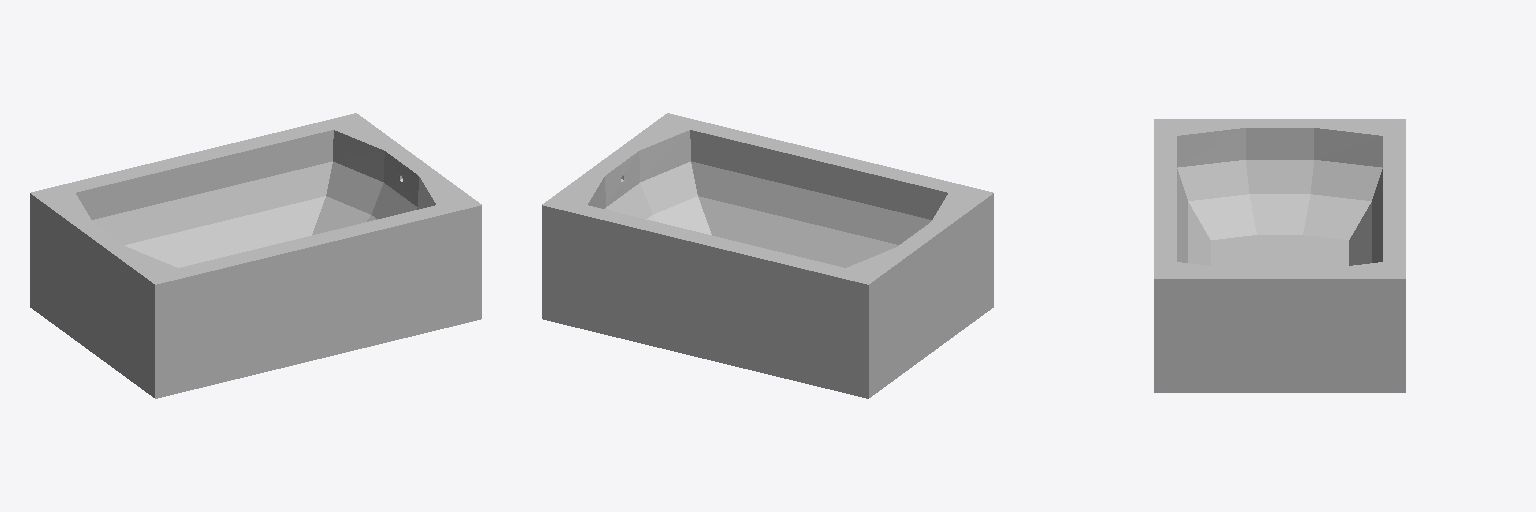
File: pcity_nodes_bathtub.obj
3 views of the same model, side by side, from view 1: azimuth 30°, elevation 25°; view 2: azimuth 150°, elevation 25°; view 3: azimuth 270°, elevation 25° (orthographic).
Visible parts, largest first — view 1: Bathtub; view 2: Bathtub; view 3: Bathtub.
Part boxes in pixels (bbox=[...]): Bathtub: bbox=[30, 113, 481, 398]; Bathtub: bbox=[542, 113, 993, 398]; Bathtub: bbox=[1154, 119, 1405, 392].
Size of the model in its own units: 3 by 1 by 2.